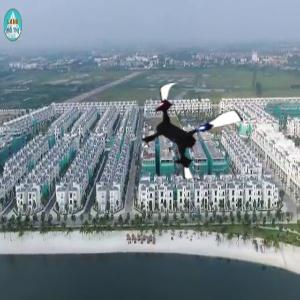drone: (136, 76, 245, 185)
